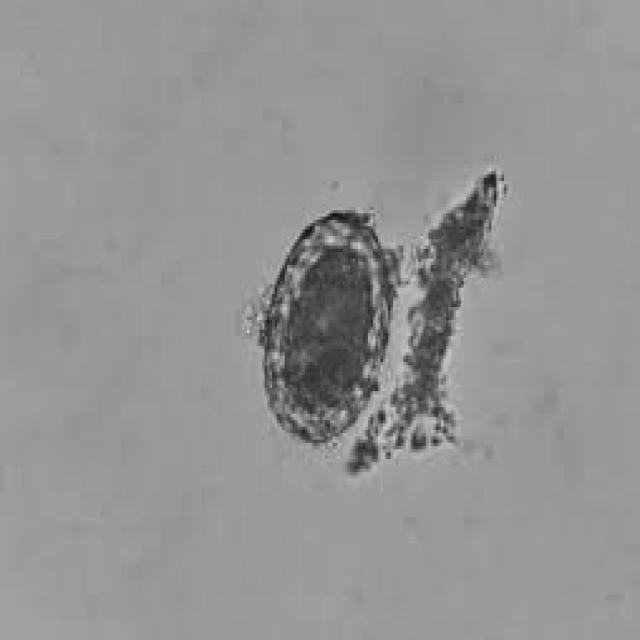Ascaris Lumbricoides: (260, 194, 400, 452)
